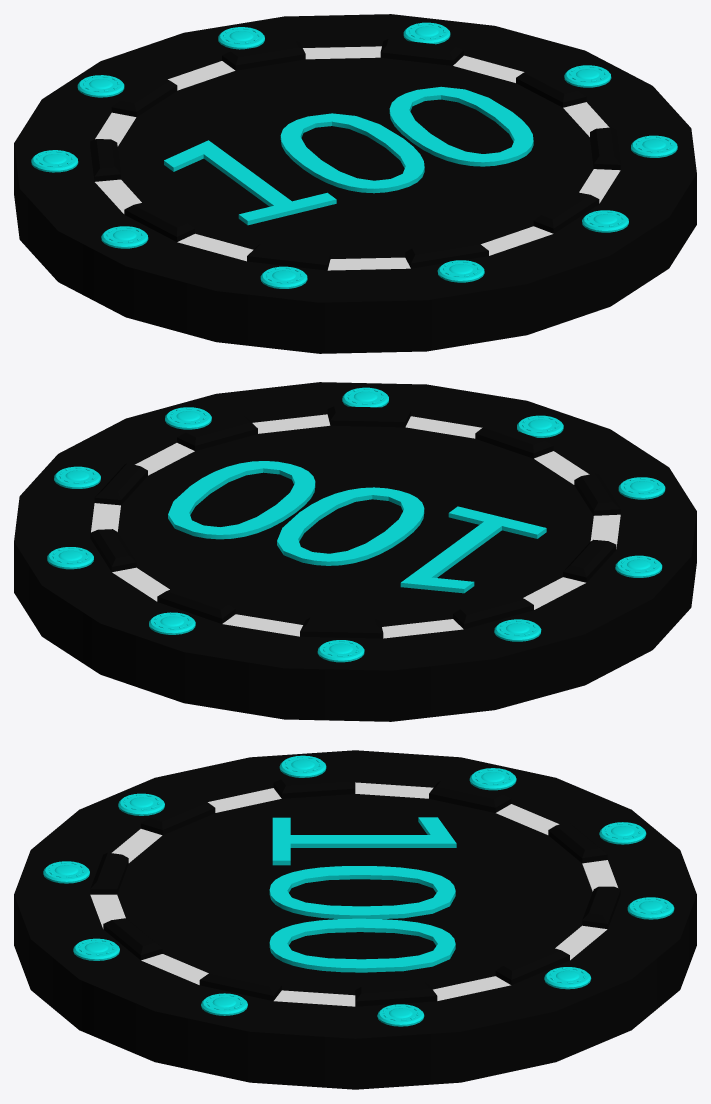
File: poker100.fbx
3 renders of one model, top to bottom at view 1: azimuth 30°, elevation 25°; view 2: azimuth 150°, elevation 25°; view 3: azimuth 270°, elevation 25°, orthographic.
Parts seen in each view (by area): view 1: pCylinder1, pCylinder12, polySurface6, polySurface5, polySurface4; view 2: pCylinder1, pCylinder12, polySurface5, polySurface6, polySurface4; view 3: pCylinder1, pCylinder12, polySurface6, polySurface5, polySurface4.
Part boxes in pixels (box(x1,y1,x2,y2)): pCylinder1: box(14, 14, 696, 353); pCylinder12: box(31, 22, 677, 288); polySurface6: box(389, 86, 533, 166); polySurface5: box(280, 113, 424, 193); polySurface4: box(164, 140, 336, 225); pCylinder1: box(14, 382, 696, 721); pCylinder12: box(47, 387, 665, 662); polySurface5: box(277, 487, 424, 565); polySurface6: box(168, 461, 315, 539); polySurface4: box(400, 506, 546, 593); pCylinder1: box(14, 750, 696, 1089); pCylinder12: box(43, 755, 674, 1026); polySurface6: box(269, 918, 455, 972); polySurface5: box(269, 866, 455, 918); polySurface4: box(272, 817, 456, 865).
Size of the model in its own units: 2.1 by 0.2076 by 2.1.
